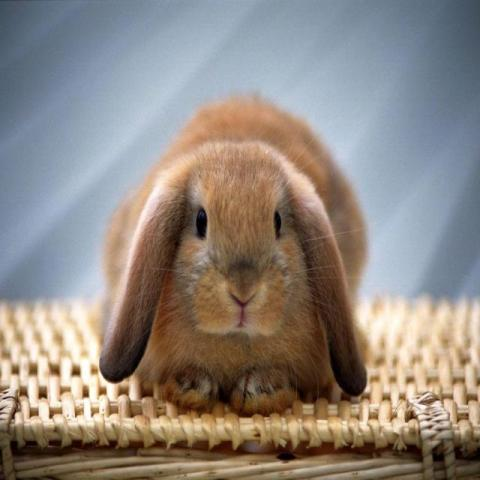small_animal: (95, 92, 373, 415)
